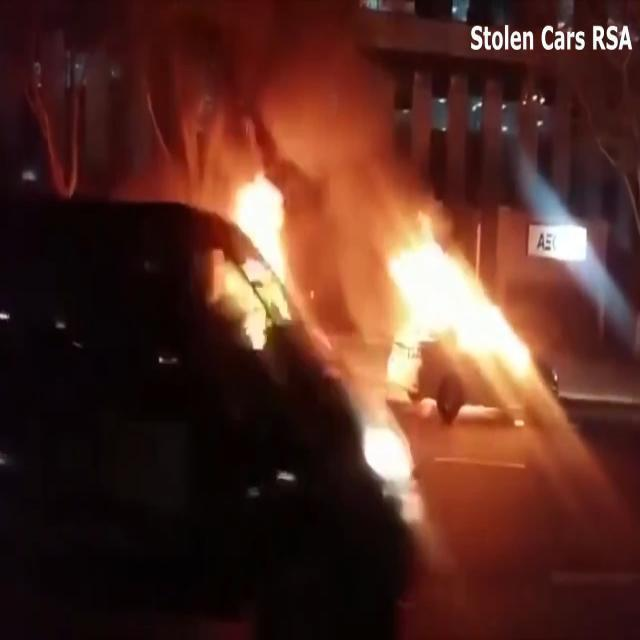fire: (389, 200, 536, 427), (234, 161, 294, 283)
